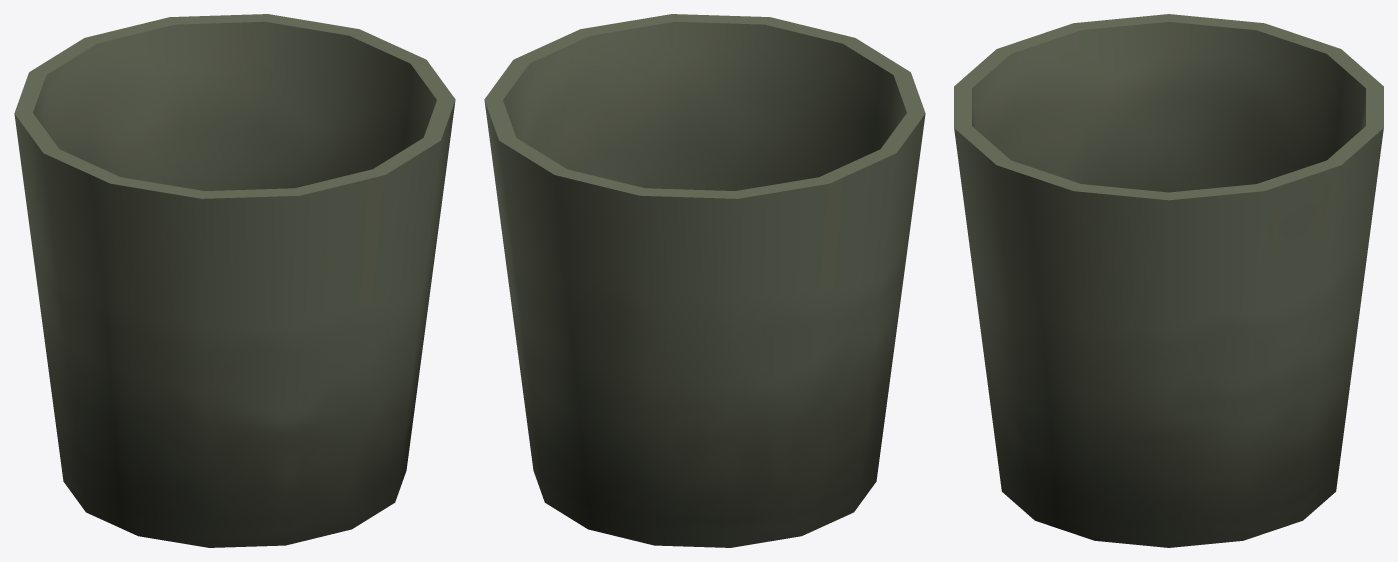
The model's file is bin.fbx.
3 renders of one model, left to right at view 1: azimuth 30°, elevation 25°; view 2: azimuth 150°, elevation 25°; view 3: azimuth 270°, elevation 25°, orthographic.
Parts seen in each view (by area): view 1: bin; view 2: bin; view 3: bin.
Part boxes in pixels (x1,y1,x2,y2): bin: [14, 14, 455, 547]; bin: [484, 14, 925, 547]; bin: [954, 14, 1383, 547].
Bounding box in the file's own units: 70.13 × 64.65 × 68.37.
Materials: 1 (1 with a texture image).
